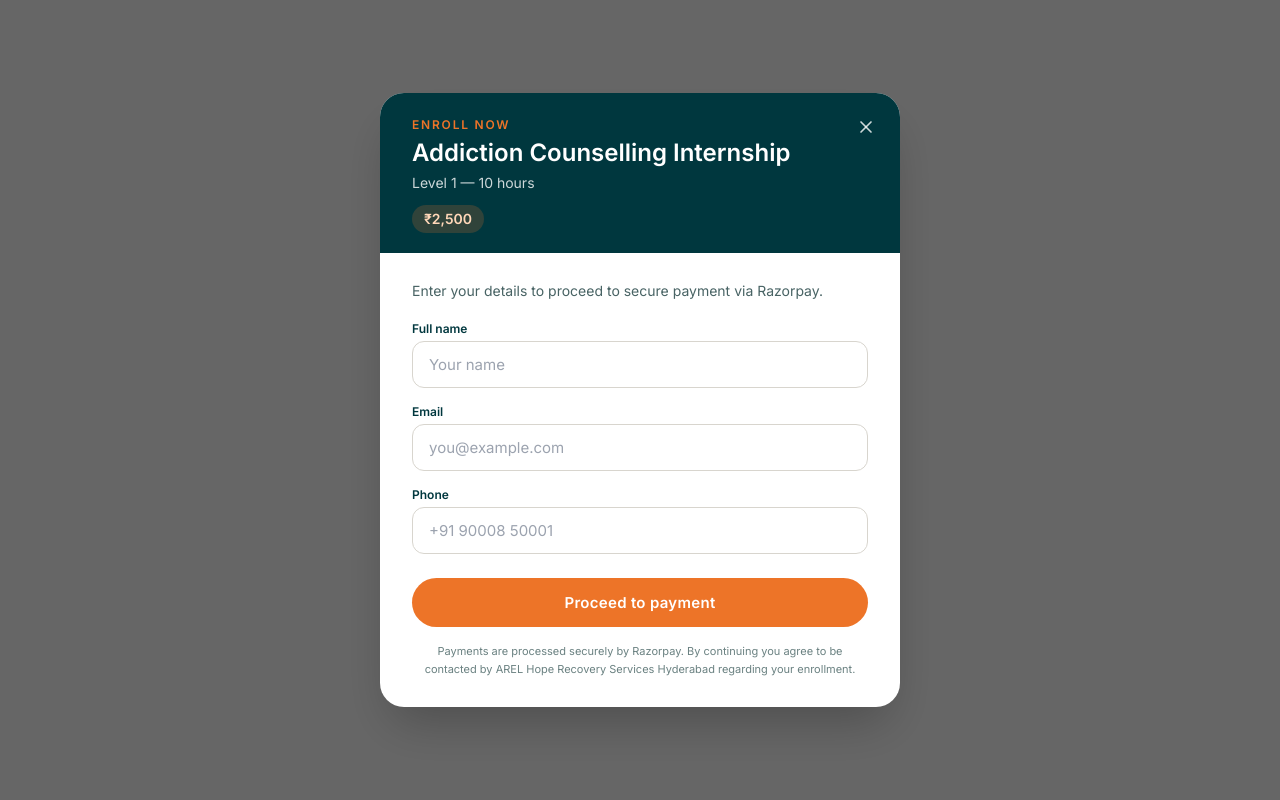
Test: EnrollmentModal › shows error when createOrder fails
The image size is (1280, 800).
Type "John Doe" into the field labelled "Full name" at (640, 365), box [412,341,868,388]
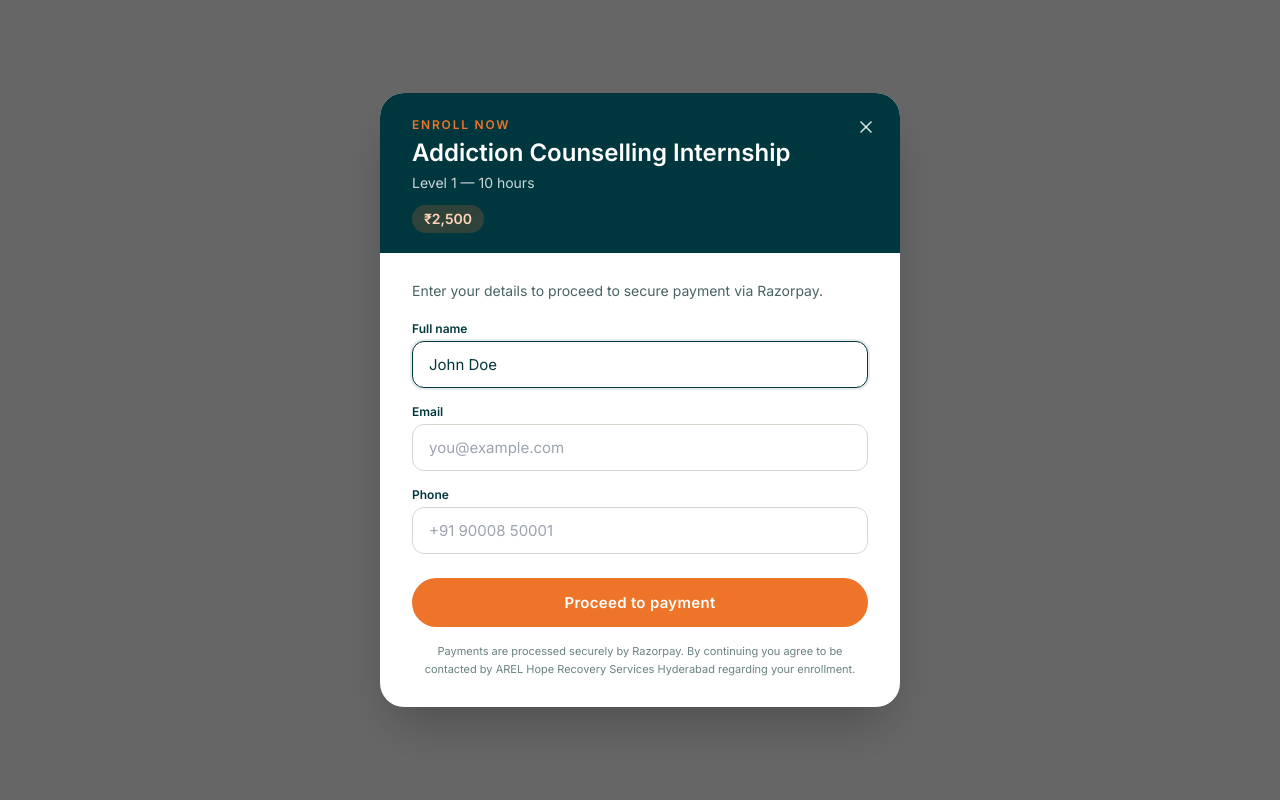
Type "john@test.com" into the field labelled "Email" at (640, 448), box [412,424,868,471]
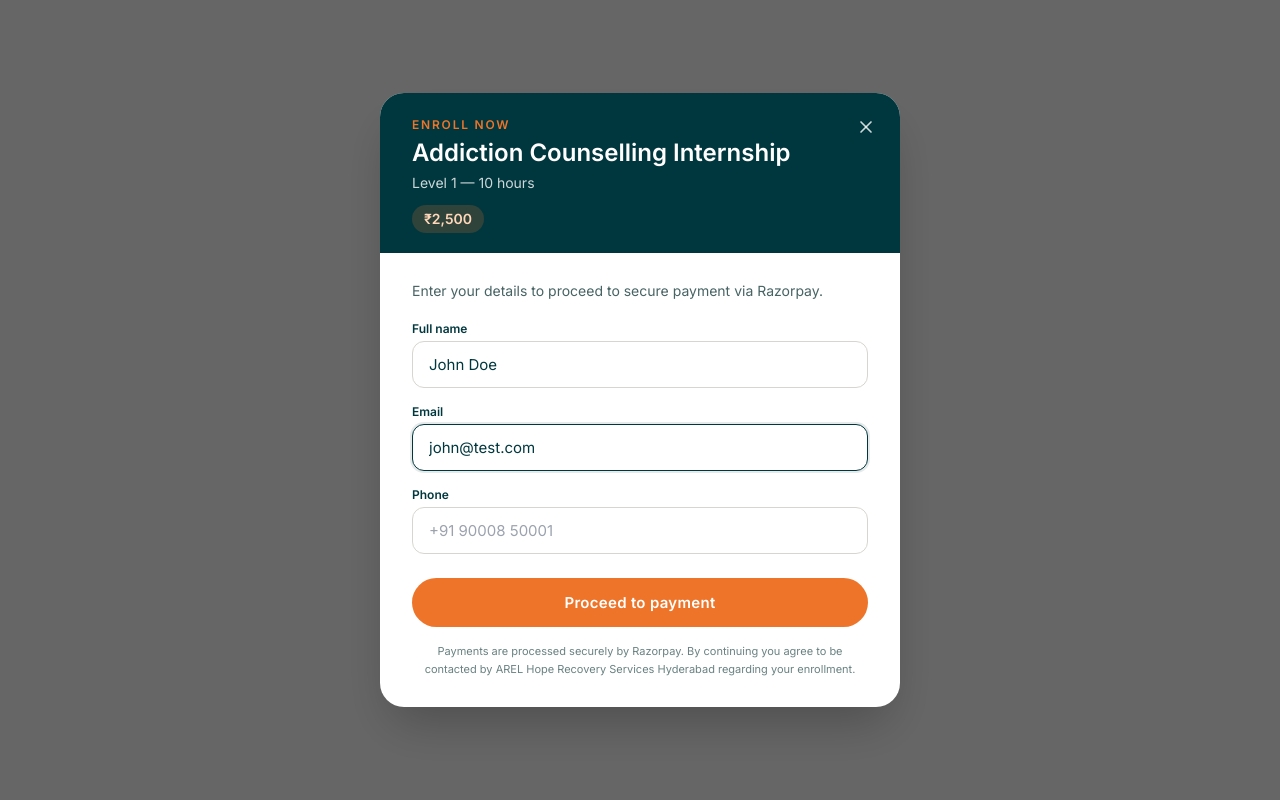
Type "9876543210" into the field labelled "Phone" at (640, 531), box [412,507,868,554]
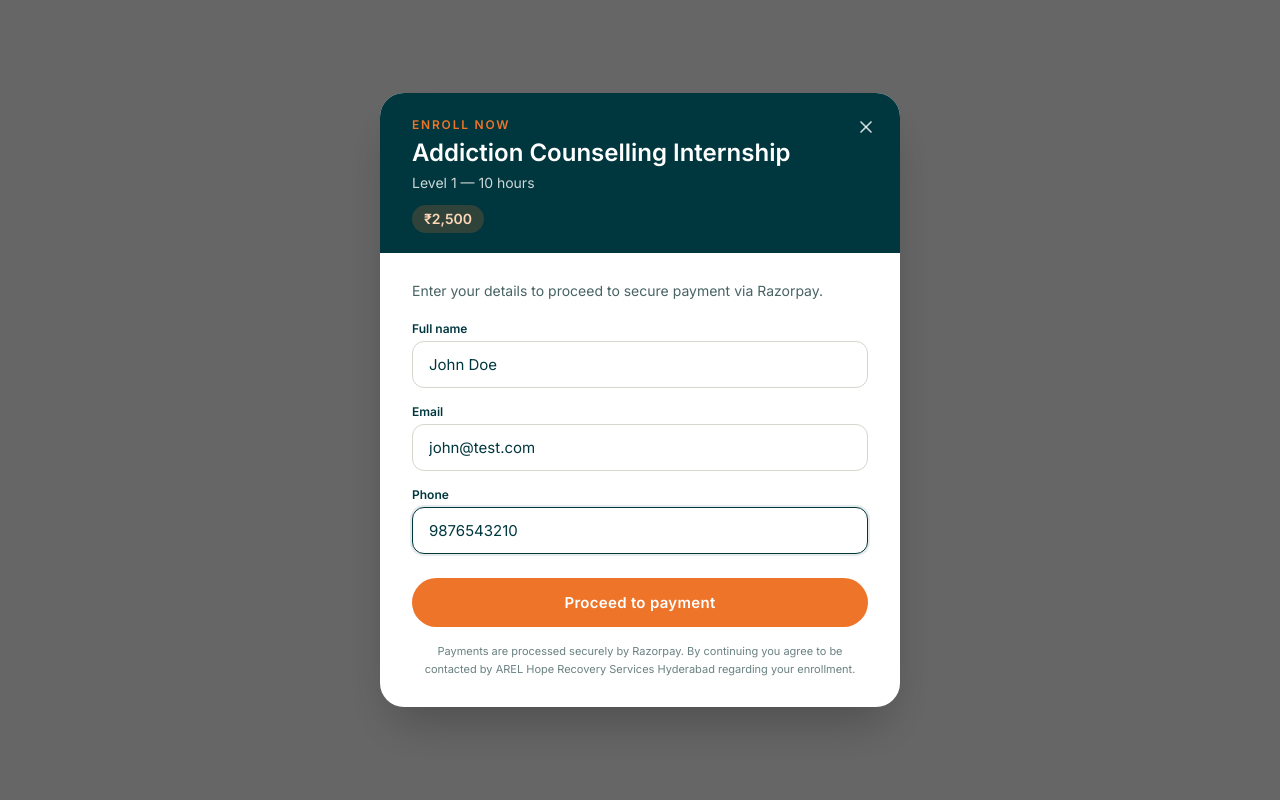
Click the button "Proceed to payment" at (640, 603), box [412,578,868,627]
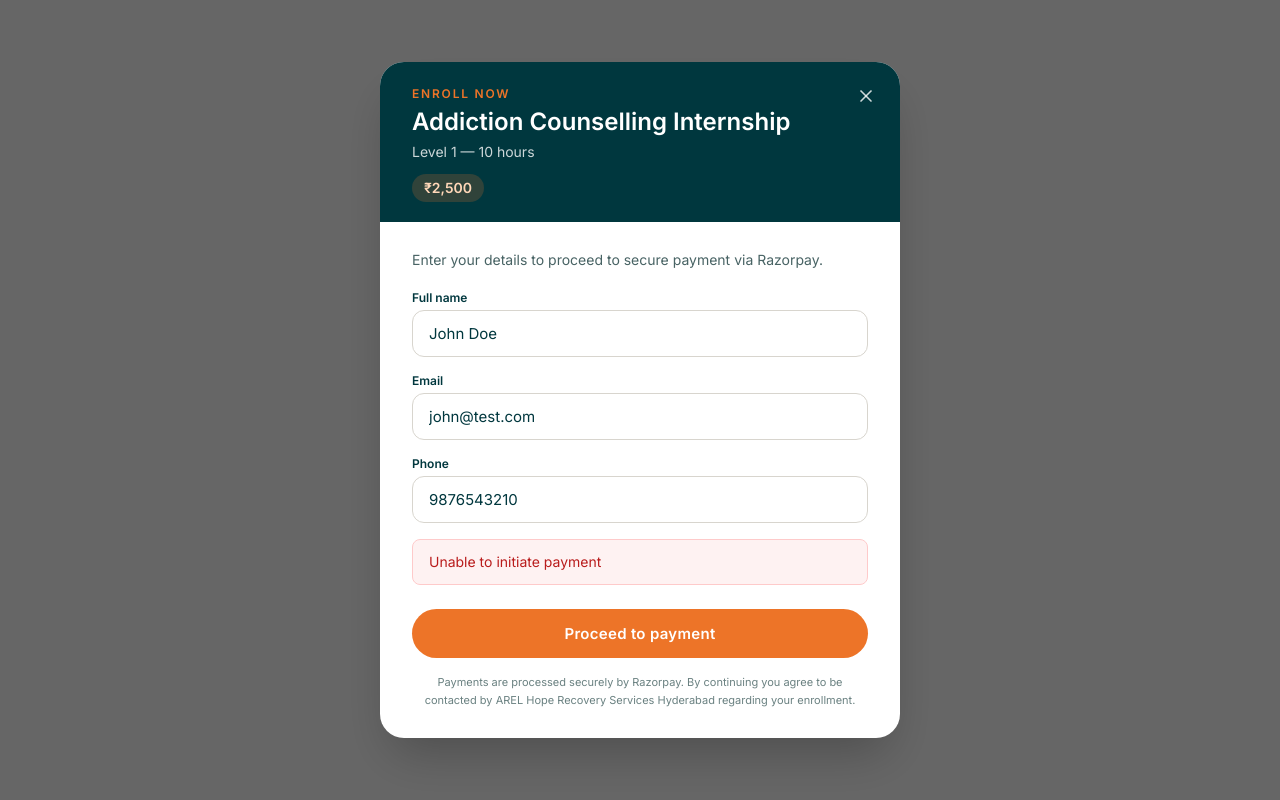
Expected: the message reads "Unable to initiate payment", [429,553,601,570]
